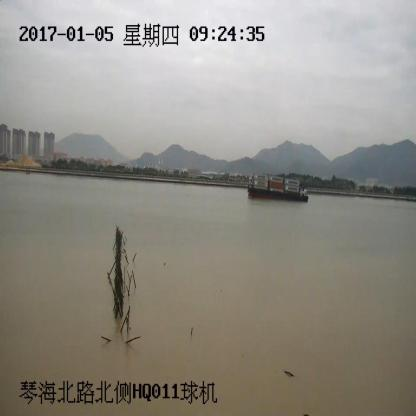Container Ship: (247, 174, 307, 202)
